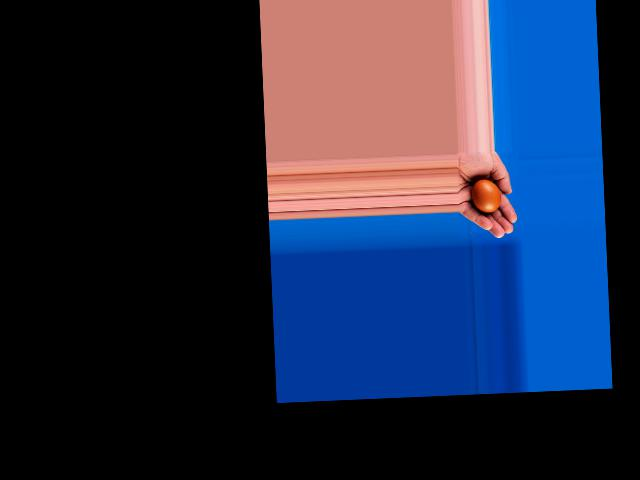egg: (471, 179, 501, 214)
